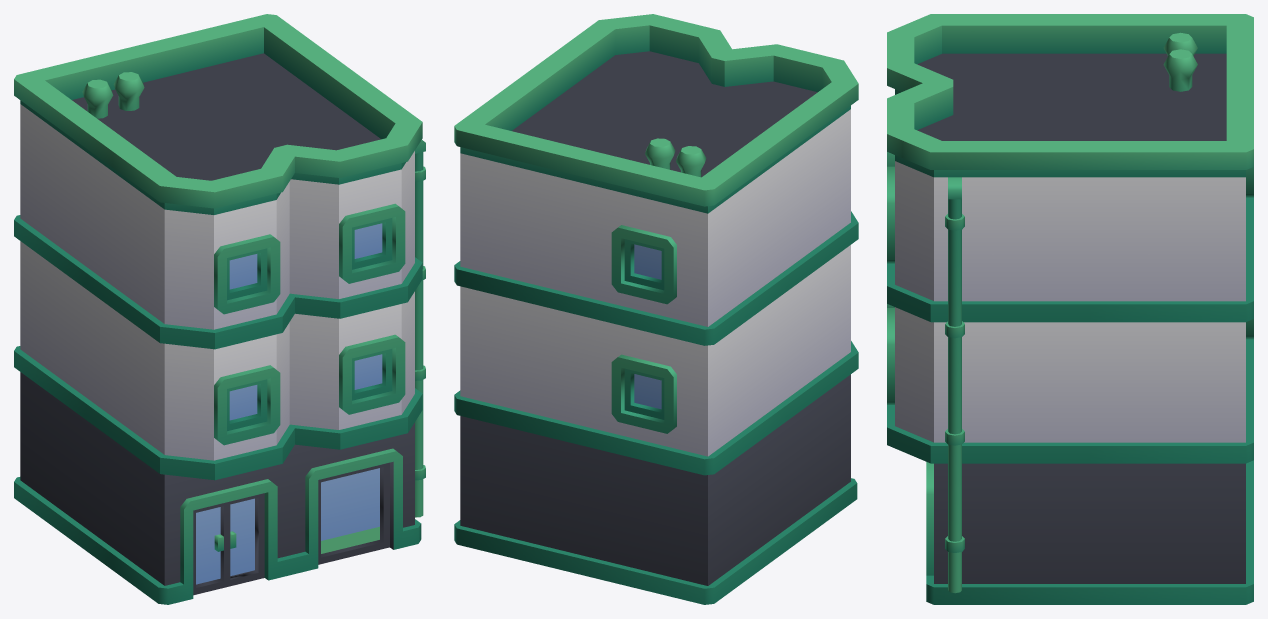
Rendered from house_level2.glb.
3 renders of one model, left to right at view 1: azimuth 30°, elevation 25°; view 2: azimuth 150°, elevation 25°; view 3: azimuth 270°, elevation 25°, orthographic. The views are drawn at different scales.
Visible parts, largest first — view 1: building-a; view 2: building-a; view 3: building-a.
Part boxes in pixels (bbox=[...]): building-a: bbox=[14, 14, 425, 604]; building-a: bbox=[454, 14, 858, 604]; building-a: bbox=[887, 14, 1253, 604].
Bounding box in the file's own units: 1.09 × 1.59 × 1.16.
1 material, 1 textured.
